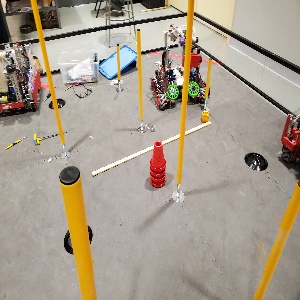Red_4: (148, 141, 165, 185)
